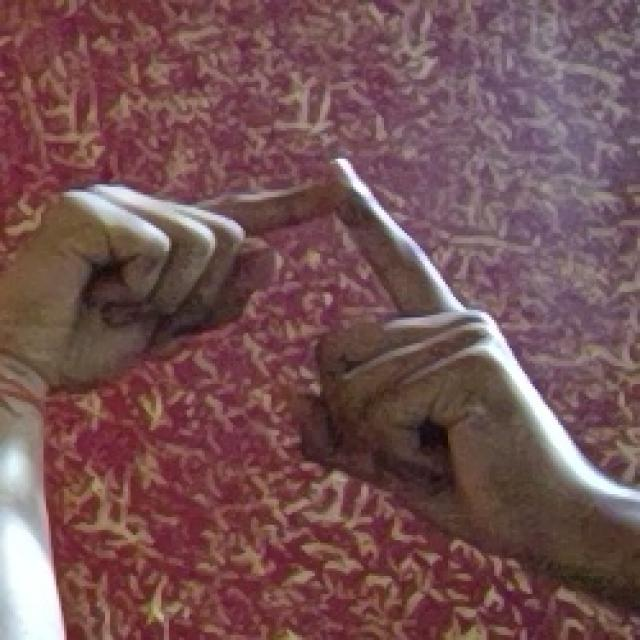Alphabet-E: (0, 159, 640, 640), (320, 159, 640, 609)
